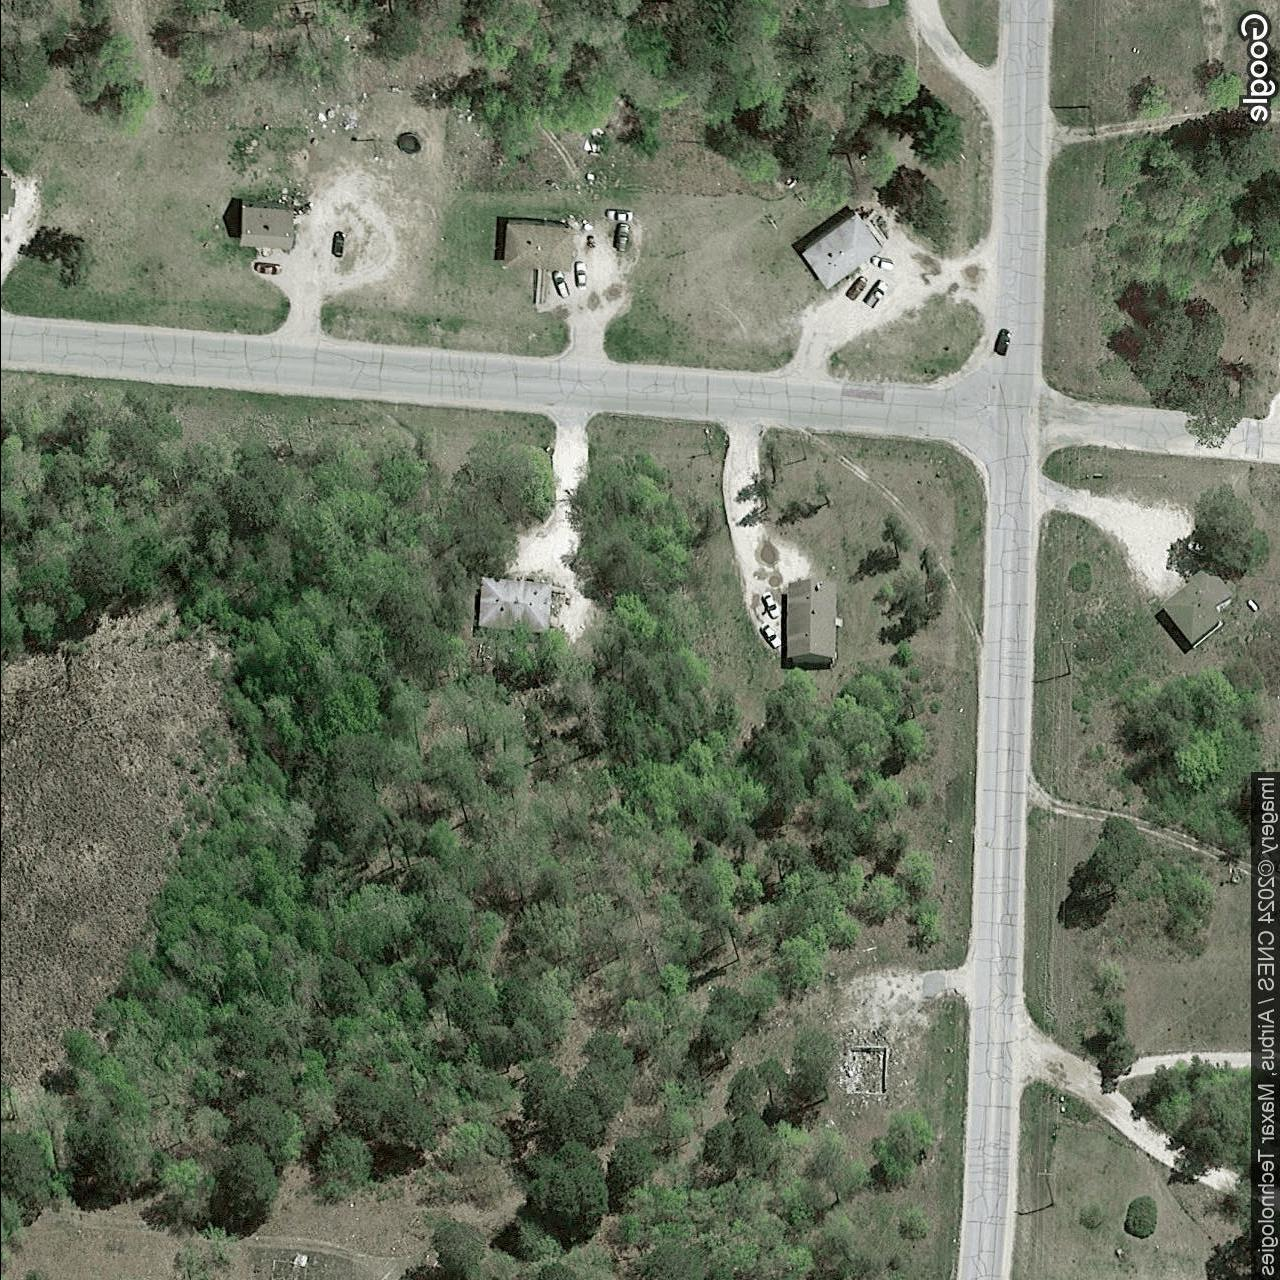House: (799, 210, 883, 293), (1158, 561, 1234, 651), (476, 573, 553, 636), (785, 577, 837, 666), (501, 218, 576, 274), (234, 204, 295, 253), (0, 176, 14, 216), (850, 1, 890, 11)
Propane: (1244, 598, 1259, 614)
